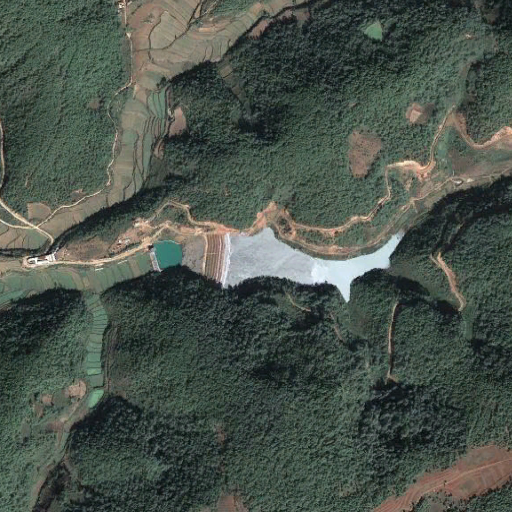tp: (202, 225, 403, 301)
